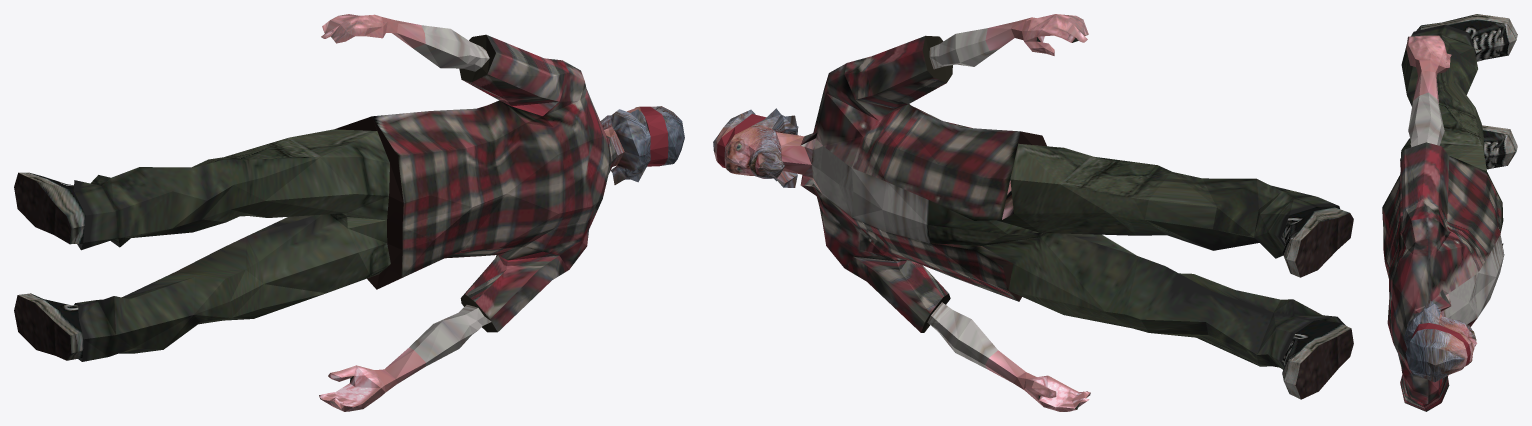
The model's file is truth.obj.
The picture shows the model from 3 angles, left to right: view 1: azimuth 30°, elevation 25°; view 2: azimuth 150°, elevation 25°; view 3: azimuth 270°, elevation 25°; orthographic projection. The views are drawn at different scales.
Visible parts, largest first — view 1: Root; view 2: Root; view 3: Root.
Part boxes in pixels (x1=…): Root: x1=14, y1=14, x2=684, y2=411; Root: x1=713, y1=14, x2=1353, y2=411; Root: x1=1382, y1=14, x2=1517, y2=411.
Size of the model in its own units: 1.83 by 1.1 by 0.3838.
1 material, 1 textured.
